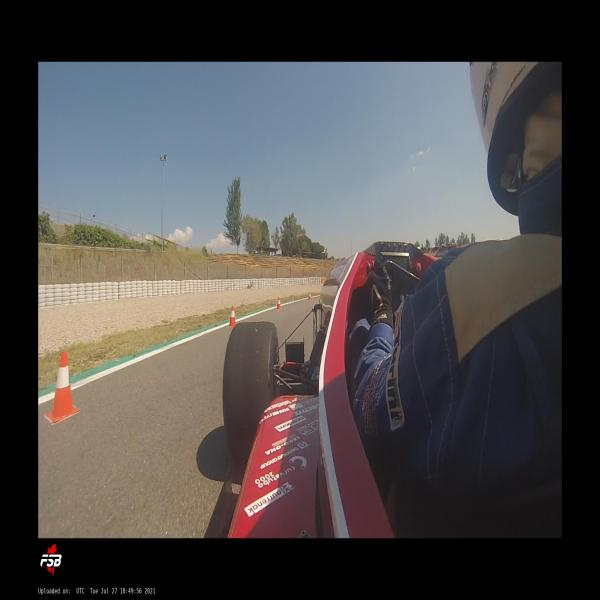orange_cone: (46, 351, 80, 422), (229, 306, 235, 326), (276, 297, 280, 309), (309, 292, 311, 300)
